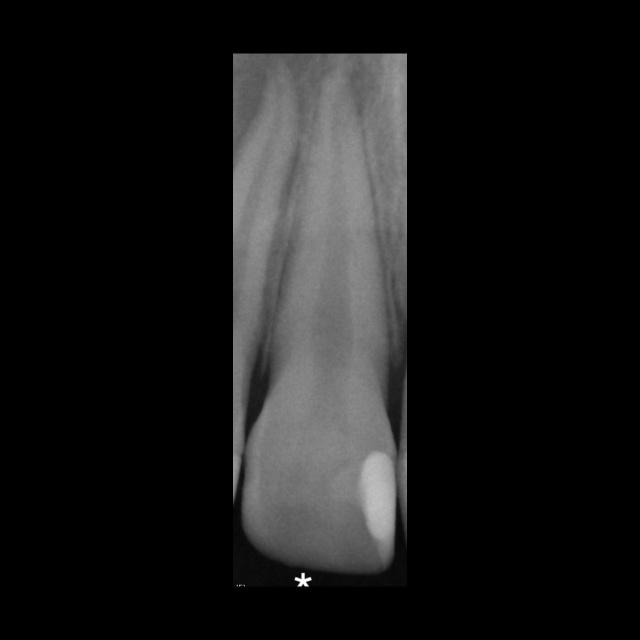tooth: (242, 66, 396, 575)
